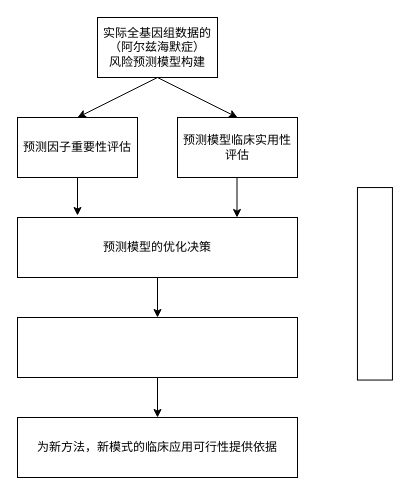
Some shapes in this 410 by 495 pixel diagram are drawn without their labels. The shapes that lost their labels are listed below. From the top down, each one's box as (x1, y1, x2, y2) in pixels, then its label:
(356, 187, 392, 380): 构 建 遗 传 风 险 预 测 的 完 整 模 式
(16, 316, 298, 378): 高危人群的筛查和精准医疗方案的制定
